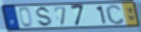0: (17, 6, 35, 29)
1: (96, 5, 108, 25)
7: (71, 4, 86, 28), (54, 6, 68, 26)
C: (105, 4, 126, 26)
S: (36, 6, 54, 28)
